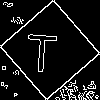T: (25, 25, 59, 73)
